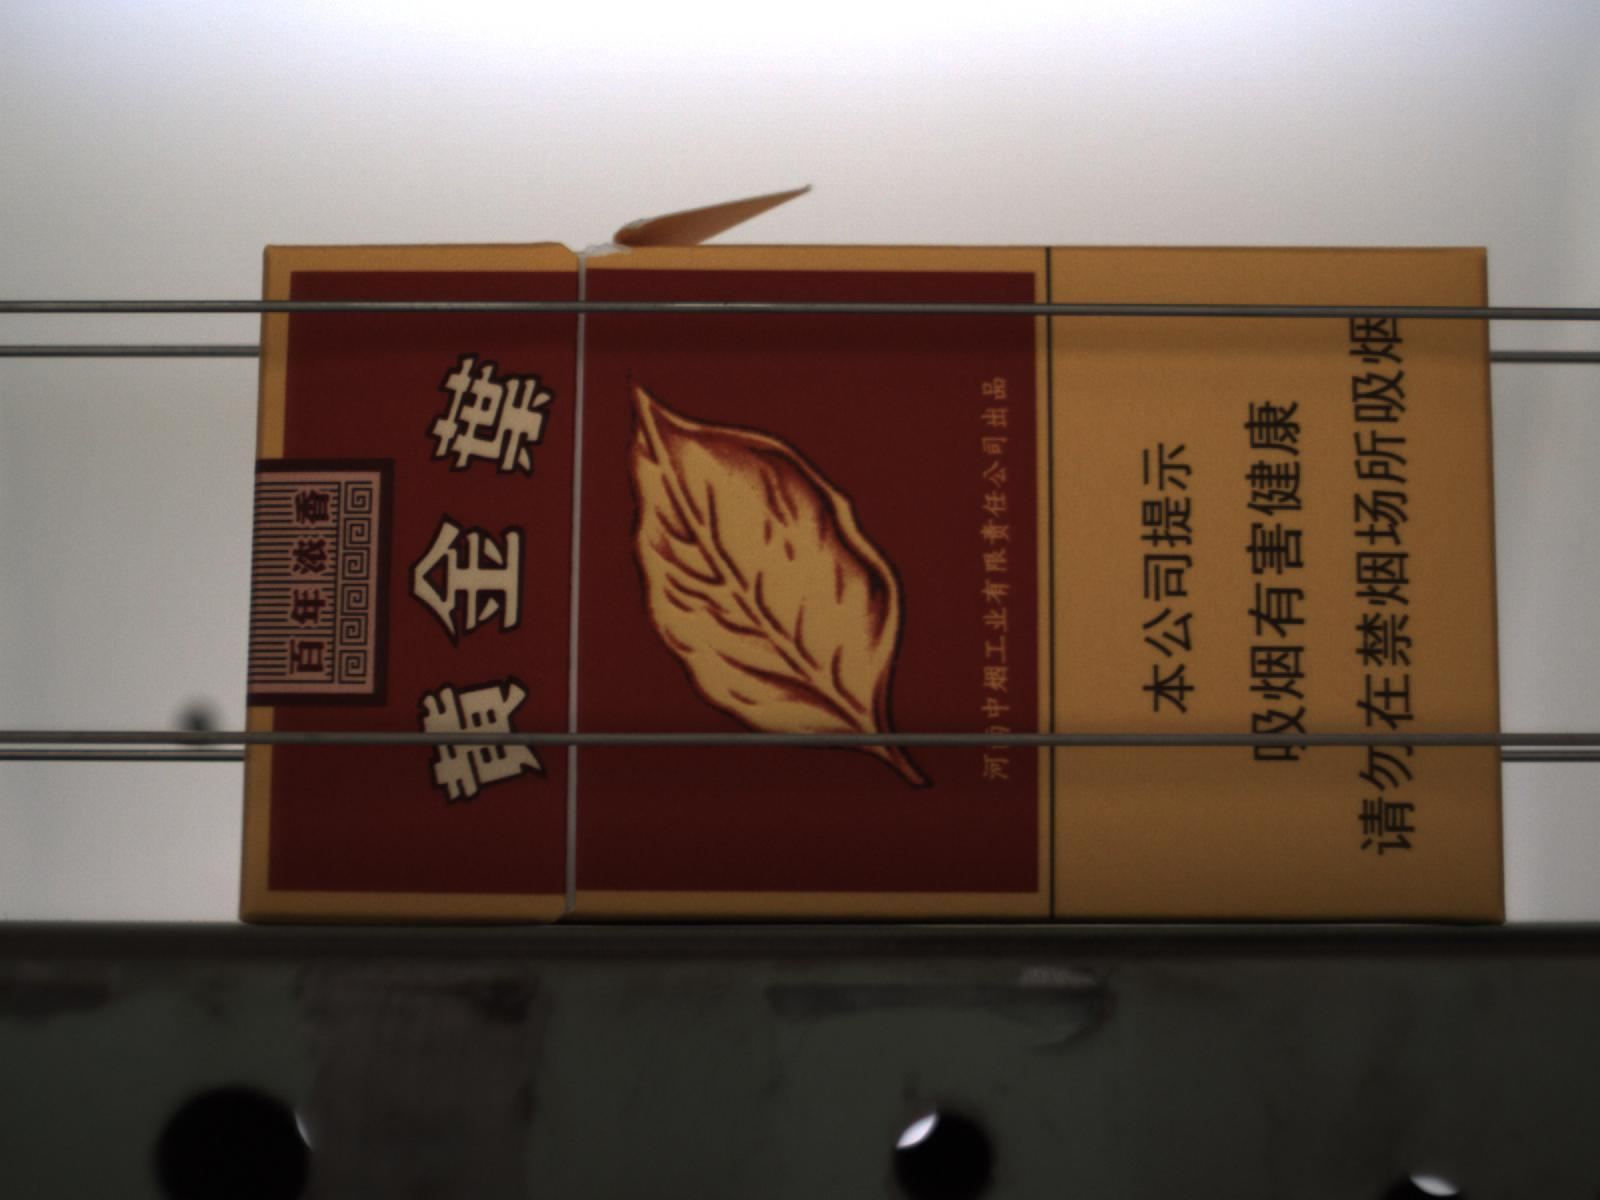outerFold_upper_01: (595, 182, 816, 252)
